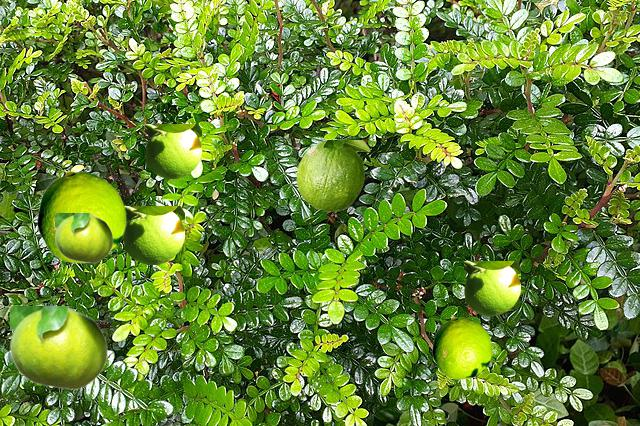dalandan: (10, 306, 107, 389), (37, 171, 125, 262), (296, 140, 369, 210), (432, 317, 491, 378), (123, 206, 183, 263), (464, 261, 519, 314), (145, 124, 200, 177), (55, 213, 112, 262)
